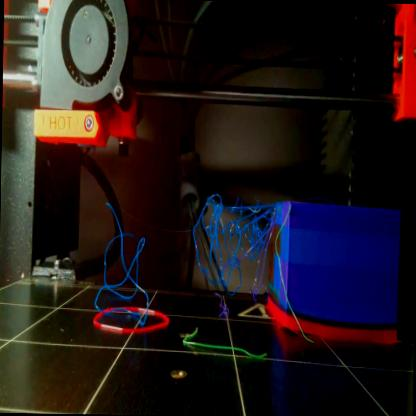fail: (194, 190, 275, 296), (95, 201, 155, 327)
